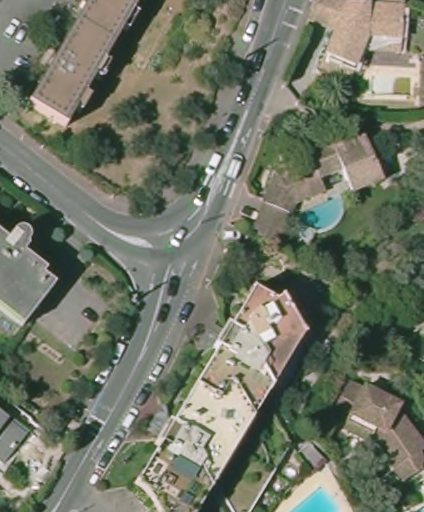pool: (274, 477, 356, 512), (290, 190, 349, 237)
